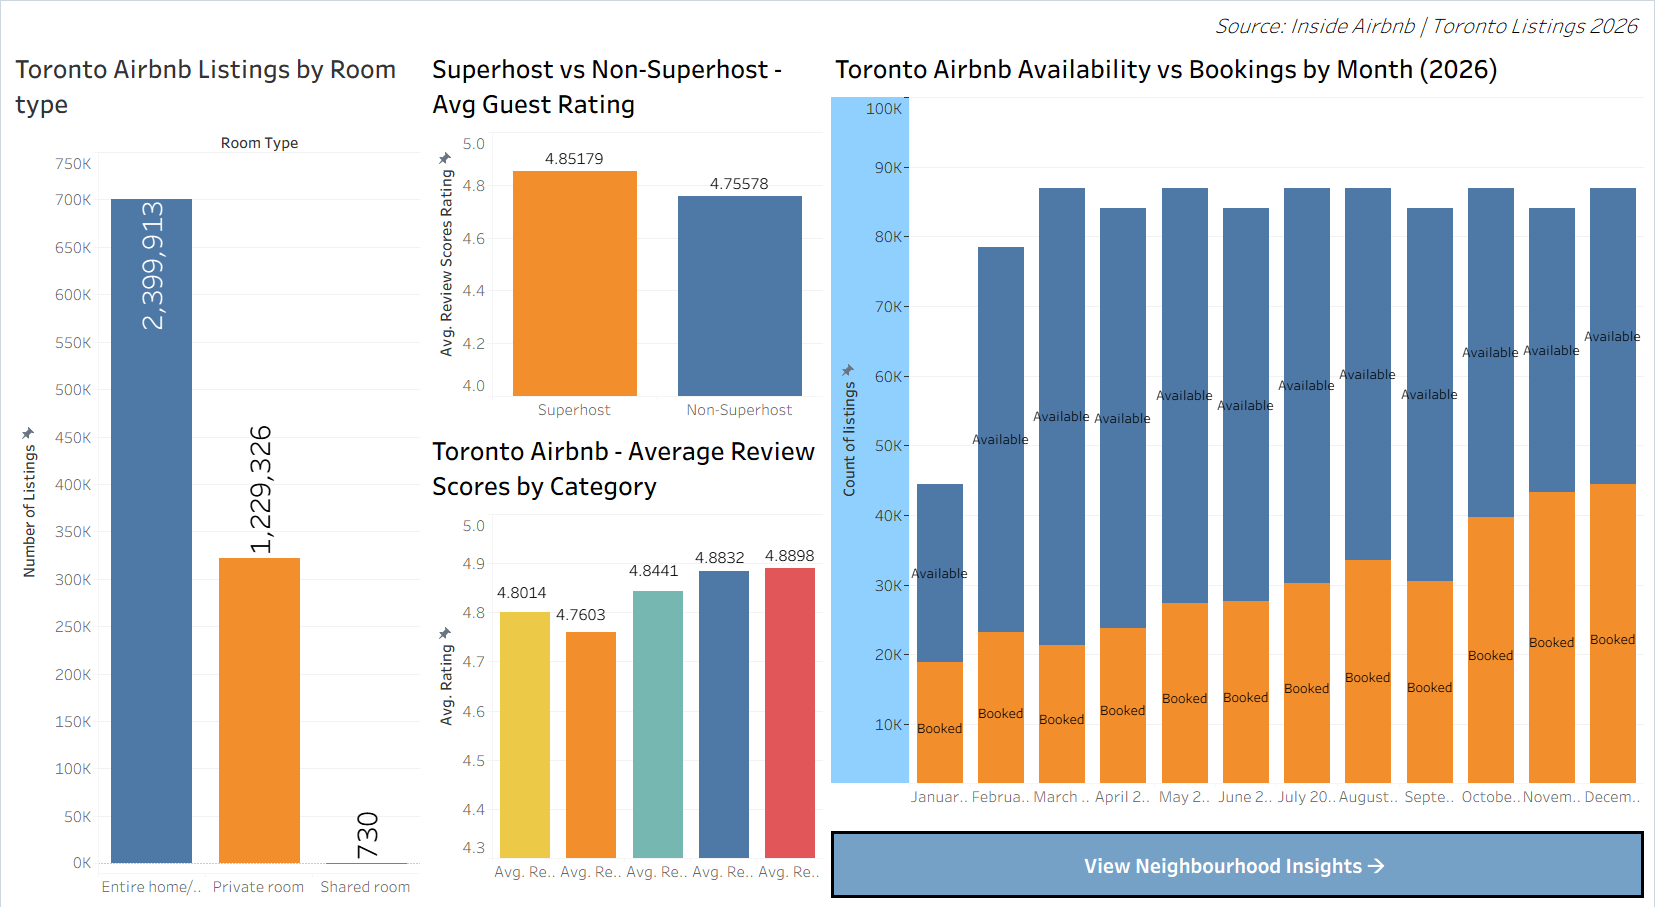

The dashboard page shown, as its layout file describes it:
{"tool":"tableau","page":{"name":"Dashboard 1 ","canvas":[1000,1000],"units":"permille","ordinal":0},"visuals":[{"type":"title","box":[4.8,8.8,990.3,39.5]},{"type":"worksheet","title":"Sheet 1","mark":"Automatic","rows":["host_listings_count"],"cols":["room_type"],"box":[4.8,48.3,251.8,942.9]},{"type":"worksheet","title":"Sheet 6","mark":"Automatic","rows":["review_scores_rating"],"cols":["host_is_superhost"],"box":[256.6,48.3,243.1,419.3]},{"type":"worksheet","title":"Sheet 5","mark":"Bar","rows":["listings_31CDA78408584F538DA0C5563CCA01F9"],"cols":["date"],"box":[499.7,48.3,495.5,860.6]},{"type":"worksheet","title":"Sheet 7","mark":"Automatic","box":[256.6,467.6,243.1,523.6]},{"type":"dashboard-object","box":[499.7,908.9,495.5,82.3]}]}

Visuals, with their boxes on the dashboard's canvas, which has no fixed pixel size, in thousandths of its width and height (x1, y1, x2, y2). These are canvas units, not pixel positions in the 1655x907 screenshot, which may show the page scaled, cropped or inside an application window:
title: BBox(5, 9, 995, 48)
"Sheet 1" worksheet: BBox(5, 48, 257, 991)
"Sheet 6" worksheet: BBox(257, 48, 500, 468)
"Sheet 5" worksheet (Bar marks): BBox(500, 48, 995, 909)
"Sheet 7" worksheet: BBox(257, 468, 500, 991)
dashboard-object: BBox(500, 909, 995, 991)
